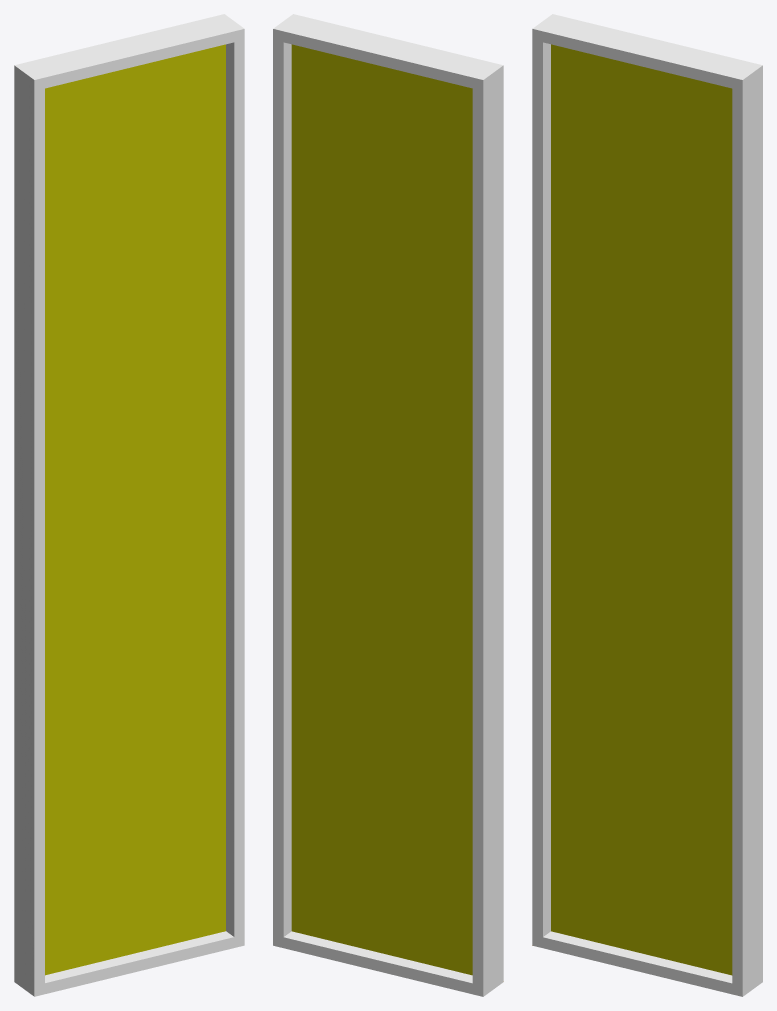
File: ventana_0.60_x_2.50.obj
3 views of the same model, side by side, from view 1: azimuth 30°, elevation 25°; view 2: azimuth 150°, elevation 25°; view 3: azimuth 330°, elevation 25° (orthographic).
Parts seen in each view (by area): view 1: Mesh2 Panel_de_sistema___Acristalado_212160__3D_1 ventana_0_60_x, Mesh3 ventana_0_60_x_2_50_dwg1 Model; view 2: Mesh2 Panel_de_sistema___Acristalado_212160__3D_1 ventana_0_60_x, Mesh3 ventana_0_60_x_2_50_dwg1 Model; view 3: Mesh2 Panel_de_sistema___Acristalado_212160__3D_1 ventana_0_60_x, Mesh3 ventana_0_60_x_2_50_dwg1 Model.
Part boxes in pixels (x1,y1,x2,y2): Mesh2 Panel_de_sistema___Acristalado_212160__3D_1 ventana_0_60_x: (45,44,225,975); Mesh3 ventana_0_60_x_2_50_dwg1 Model: (14,14,244,996); Mesh2 Panel_de_sistema___Acristalado_212160__3D_1 ventana_0_60_x: (291,44,472,975); Mesh3 ventana_0_60_x_2_50_dwg1 Model: (273,14,503,996); Mesh2 Panel_de_sistema___Acristalado_212160__3D_1 ventana_0_60_x: (551,44,732,975); Mesh3 ventana_0_60_x_2_50_dwg1 Model: (532,14,762,996).
Size of the model in its own units: 601 by 2500 by 101.
